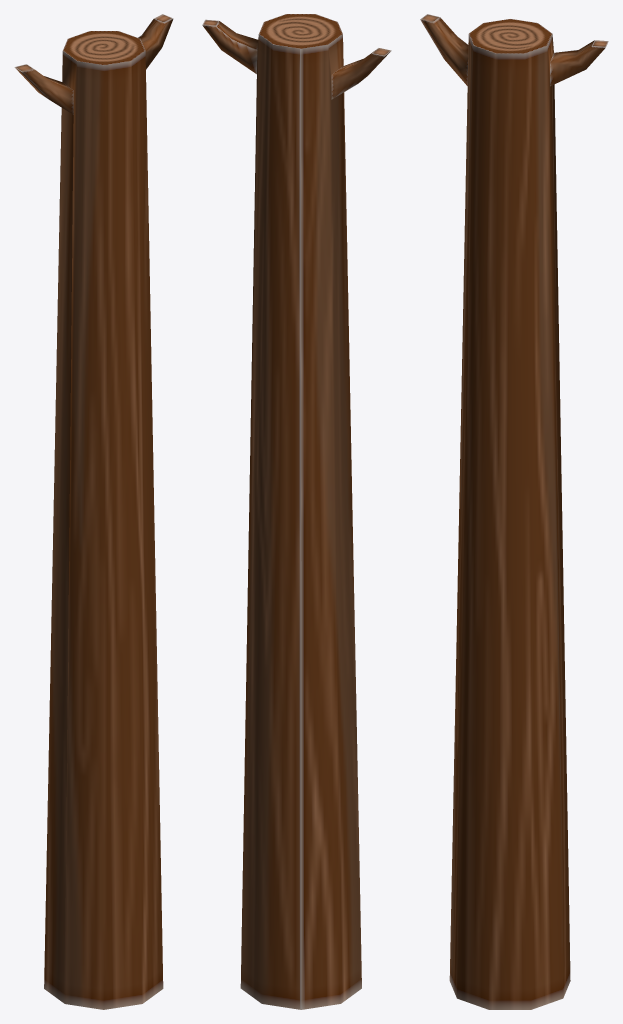
File: bigtree_tex02_fbx.fbx
The picture shows the model from 3 angles, left to right: view 1: azimuth 30°, elevation 25°; view 2: azimuth 150°, elevation 25°; view 3: azimuth 330°, elevation 25°; orthographic projection.
Parts seen in each view (by area): view 1: pCylinder1; view 2: pCylinder1; view 3: pCylinder1.
Part boxes in pixels (left/top/right/bottom): pCylinder1: left=14, top=14, right=173, bottom=1009; pCylinder1: left=202, top=14, right=391, bottom=1009; pCylinder1: left=420, top=14, right=608, bottom=1009.
Size of the model in its own units: 2.3 by 12.3 by 1.42.
